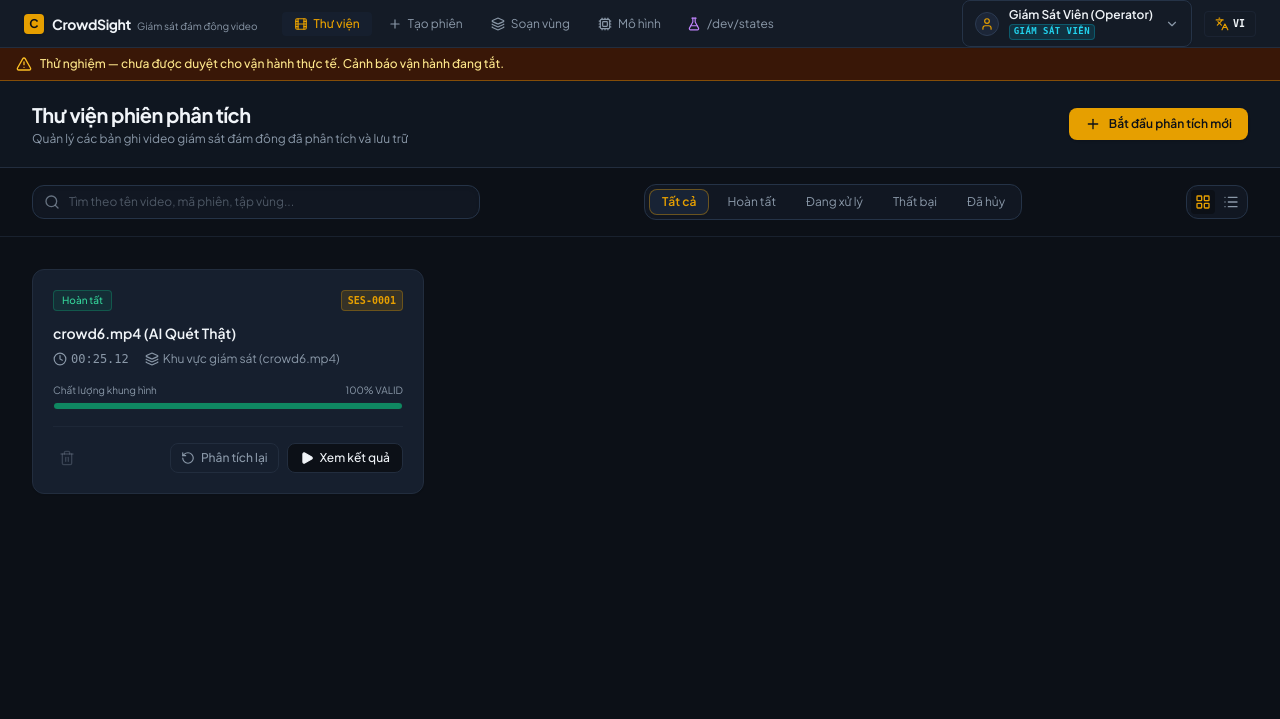
Test case: App Navigation and History Back behavior › supports in-app back from NewSessionWizard on Step 1 to return to sessions
This screenshot has width=1280, height=719.
Open Wizard
Click the button "Tạo phiên". click: x=425, y=24
box: [376,12,475,36]
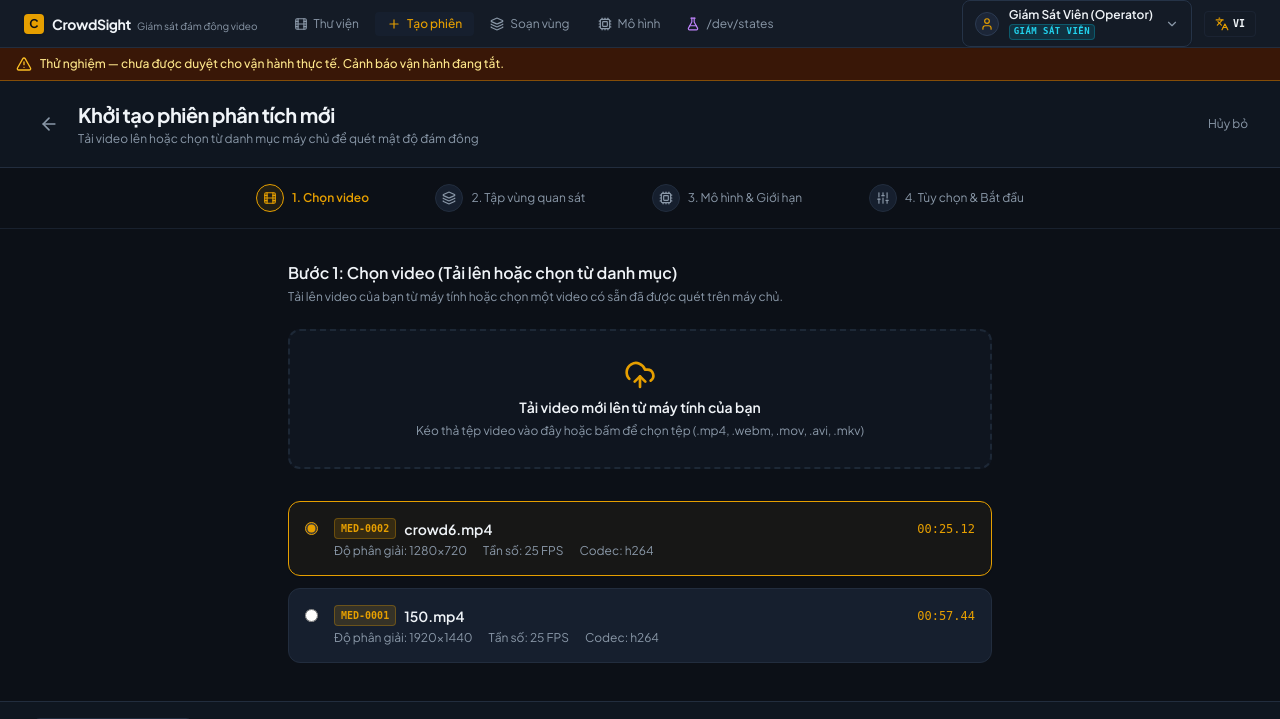
Expected: the heading "Khởi tạo phiên phân tích mới" is shown, [78,102,335,127]
Click on header back button
Click the button titled "Quay lại danh sách phiên". click: x=49, y=124
box: [32,107,66,141]
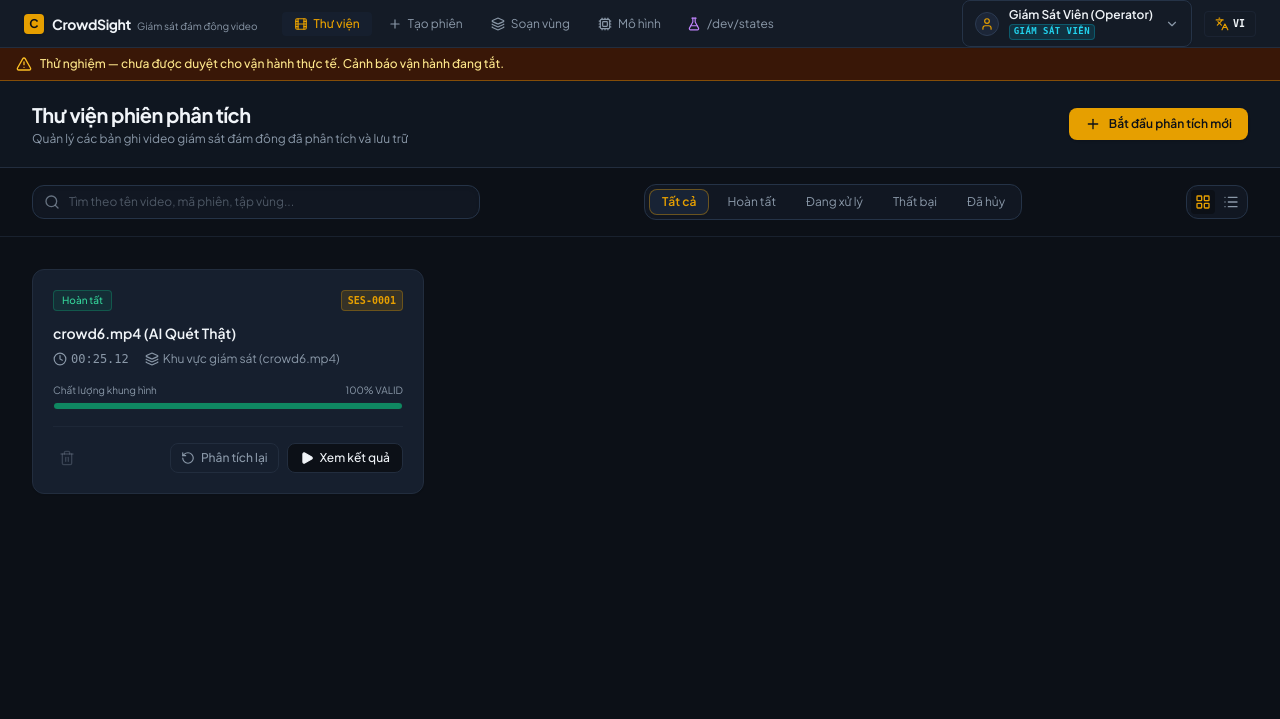
Expected: the heading "Thư viện phiên phân tích" is shown, [32,102,251,127]
